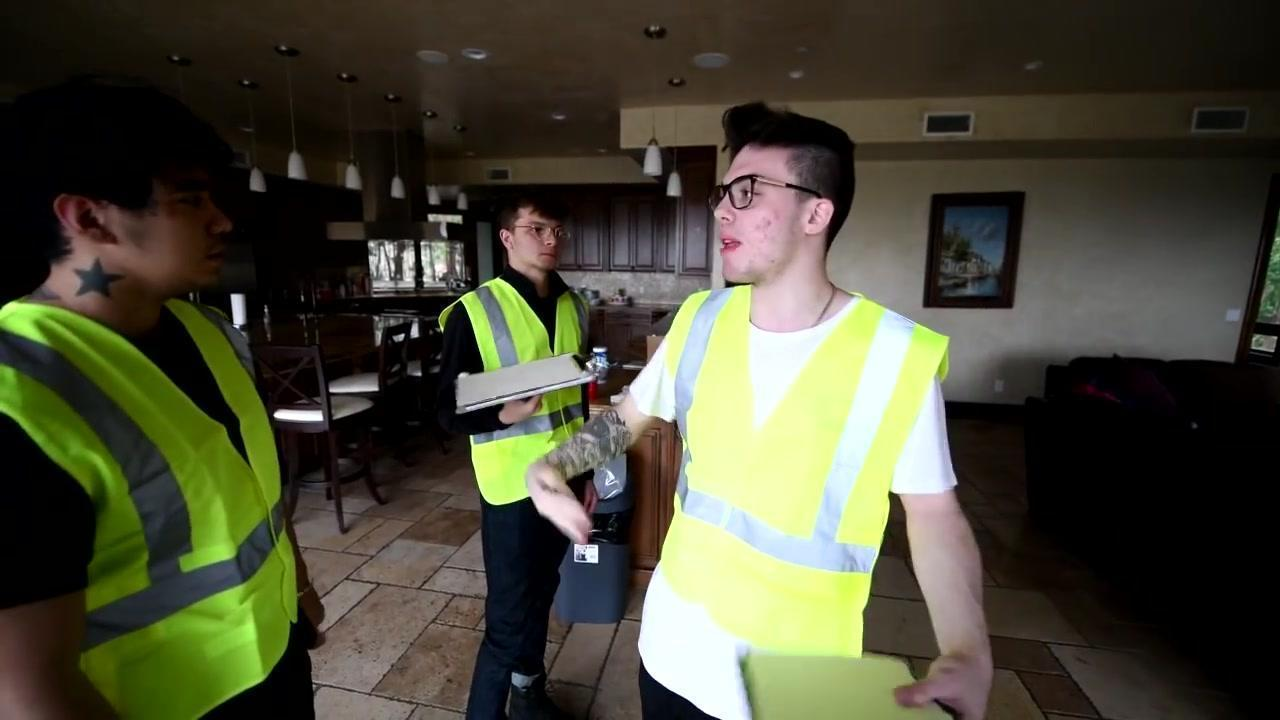Glass: (0, 292, 294, 719), (657, 272, 954, 656), (446, 271, 608, 504)
